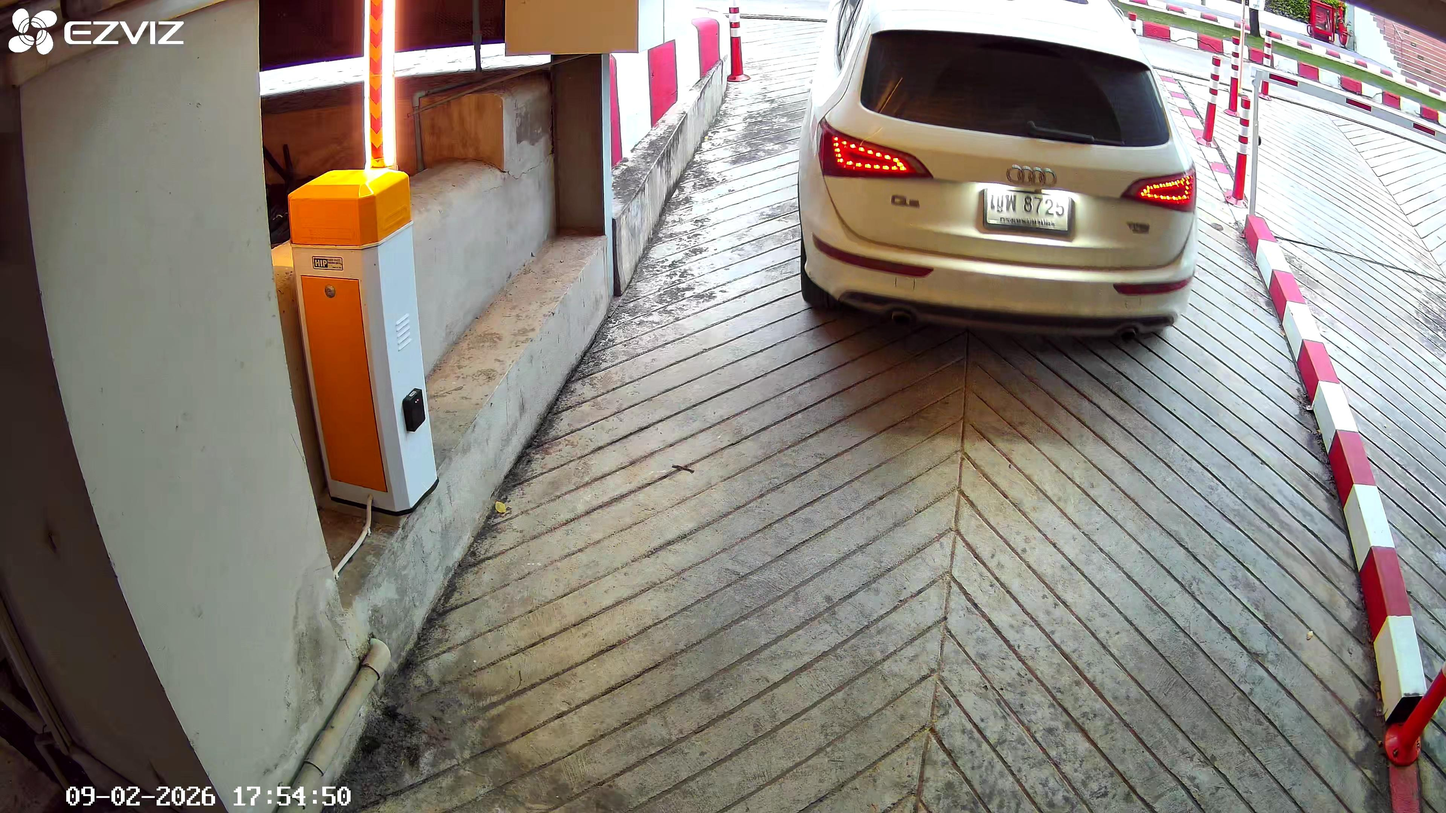car: (796, 4, 1201, 344)
license-plate: (978, 181, 1075, 236)
